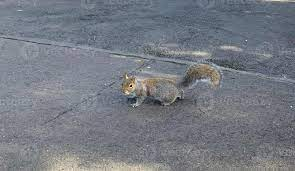squirrel: (119, 62, 224, 107)
